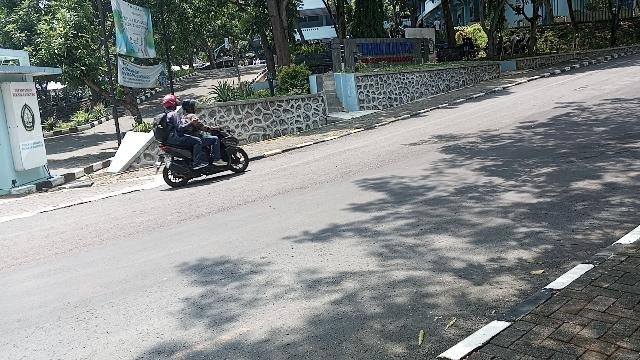helm: (182, 98, 203, 115), (163, 95, 182, 112)
motor: (156, 118, 251, 188)
